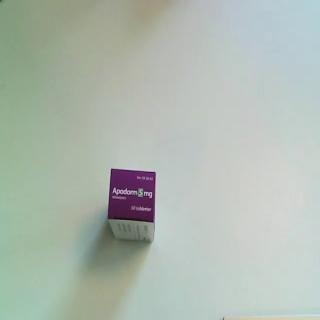apodonorm5mg: (107, 167, 157, 245)
